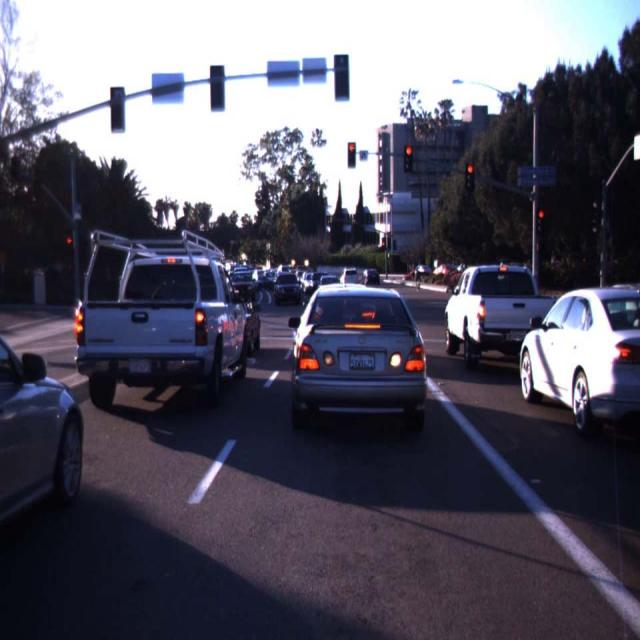kirmizi: (404, 148, 414, 172), (466, 165, 475, 191), (536, 209, 544, 235)
